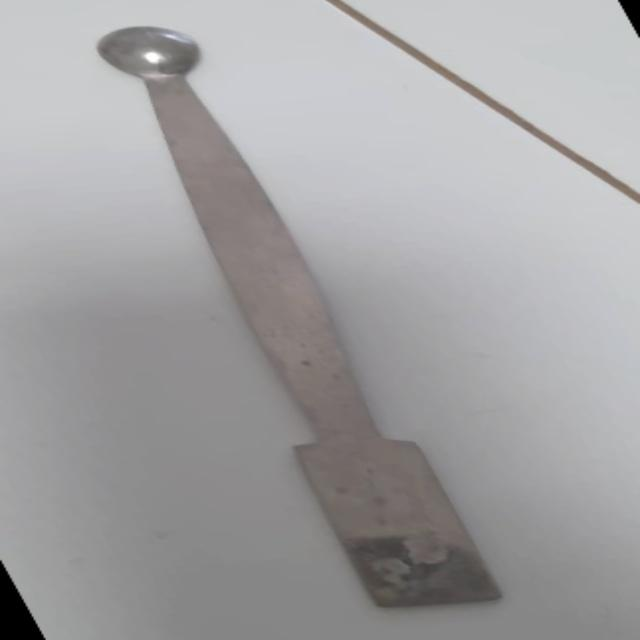Spatula: (33, 14, 546, 626)
